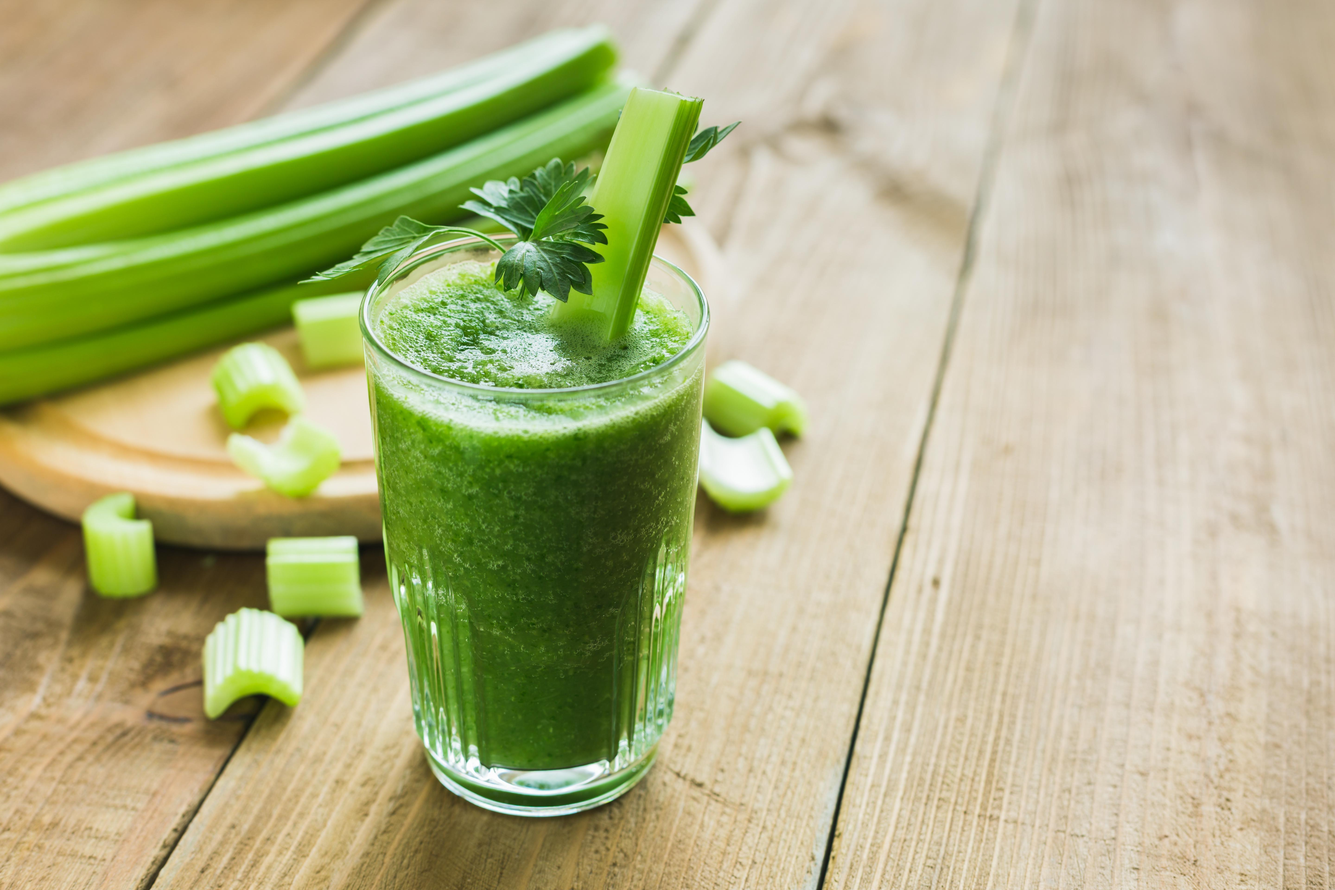glass-normal: (356, 225, 717, 817)
